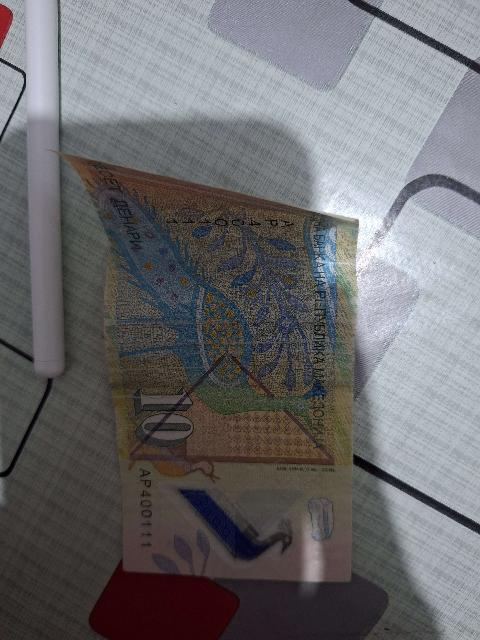note: (60, 143, 359, 591)
